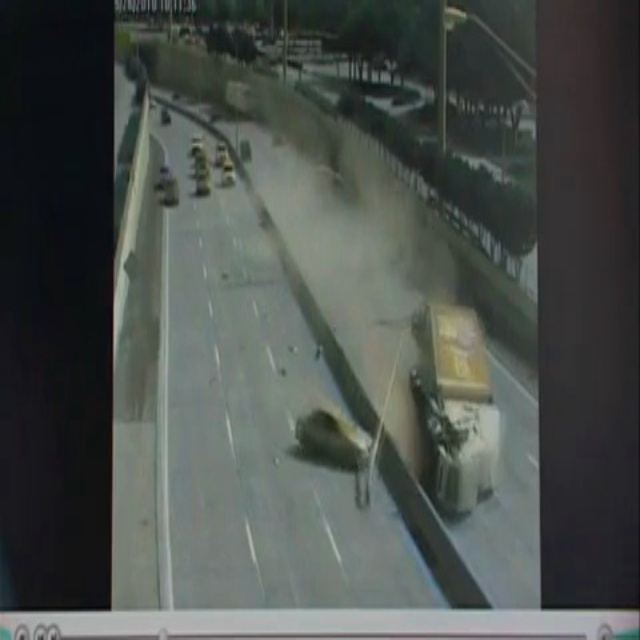acc: (278, 286, 504, 528)
